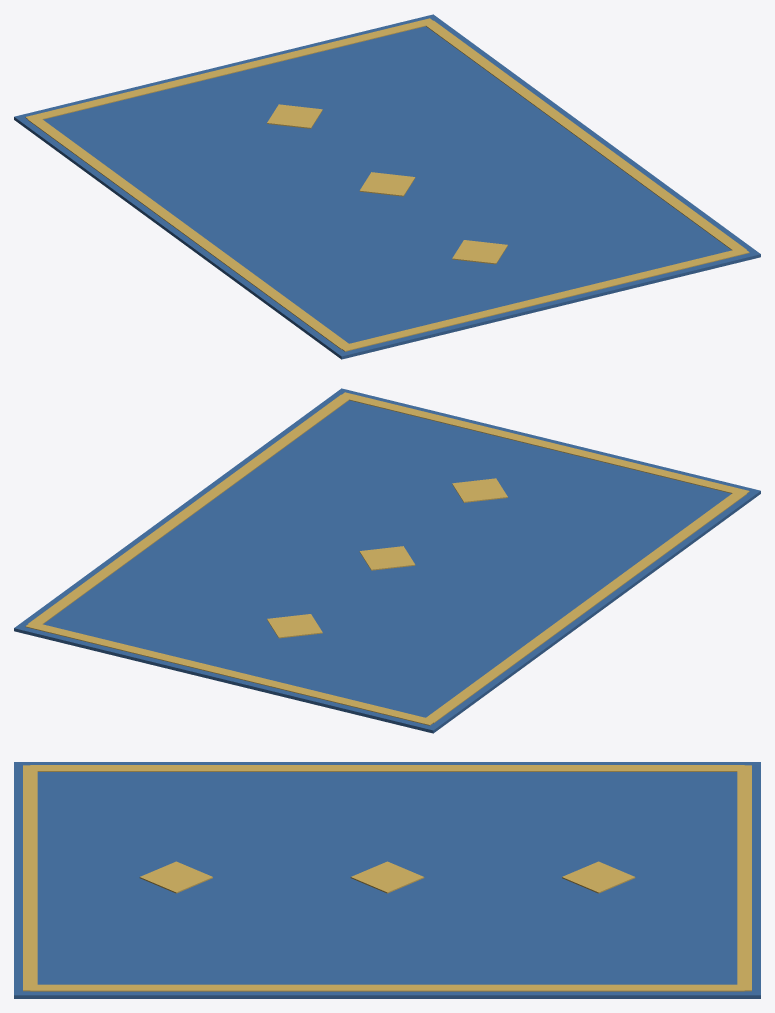
The model's file is royal-bedroom-rug.glb.
3 views of the same model, one above another, from view 1: azimuth 30°, elevation 25°; view 2: azimuth 150°, elevation 25°; view 3: azimuth 270°, elevation 25° (orthographic). The views are drawn at different scales.
Visible parts, largest first — view 1: Deep blue rug, Gold rug border, Gold rug border.001, Gold rug border.002, Gold rug border.003, Woven diamond.001, Woven diamond.002, Woven diamond; view 2: Deep blue rug, Gold rug border, Gold rug border.001, Gold rug border.002, Gold rug border.003, Woven diamond, Woven diamond.001, Woven diamond.002; view 3: Deep blue rug, Gold rug border.001, Gold rug border, Gold rug border.002, Gold rug border.003, Woven diamond, Woven diamond.001, Woven diamond.002.
Part boxes in pixels (<box>): Deep blue rug: <box>14,14,760,359</box>; Gold rug border: <box>28,117,351,349</box>; Gold rug border.001: <box>423,20,746,252</box>; Gold rug border.002: <box>342,247,749,351</box>; Gold rug border.003: <box>25,18,434,121</box>; Woven diamond.001: <box>359,172,415,196</box>; Woven diamond.002: <box>267,104,322,128</box>; Woven diamond: <box>452,240,507,264</box>; Deep blue rug: <box>14,388,760,733</box>; Gold rug border: <box>423,491,746,723</box>; Gold rug border.001: <box>28,394,351,626</box>; Gold rug border.002: <box>339,392,749,495</box>; Gold rug border.003: <box>25,622,432,725</box>; Woven diamond: <box>452,478,507,502</box>; Woven diamond.001: <box>359,546,415,570</box>; Woven diamond.002: <box>267,614,322,638</box>; Deep blue rug: <box>14,762,760,998</box>; Gold rug border.001: <box>30,984,744,991</box>; Gold rug border: <box>30,765,744,771</box>; Gold rug border.002: <box>23,765,37,991</box>; Gold rug border.003: <box>737,765,751,991</box>; Woven diamond: <box>139,861,212,893</box>; Woven diamond.001: <box>350,861,424,893</box>; Woven diamond.002: <box>562,861,635,893</box>.
Bounding box in the file's own units: 1.7 × 0.018 × 2.3.
